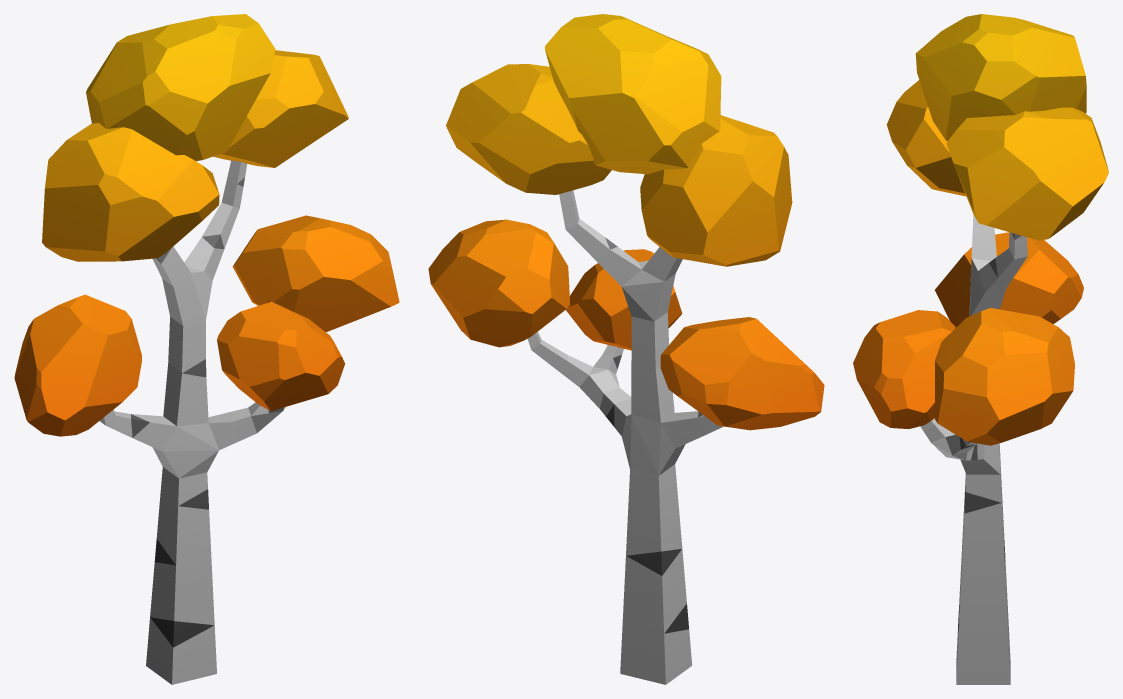
The model's file is autumn birch tree 4.fbx.
3 views of the same model, side by side, from view 1: azimuth 30°, elevation 25°; view 2: azimuth 150°, elevation 25°; view 3: azimuth 270°, elevation 25° (orthographic). The views are drawn at different scales.
Visible parts, largest first — view 1: autumn birch tree 4; view 2: autumn birch tree 4; view 3: autumn birch tree 4.
Boxes of the visible parts, <box> form: autumn birch tree 4: <box>14,14,399,684</box>; autumn birch tree 4: <box>428,14,824,684</box>; autumn birch tree 4: <box>853,14,1108,684</box>.
Size of the model in its own units: 416 by 671 by 236.
